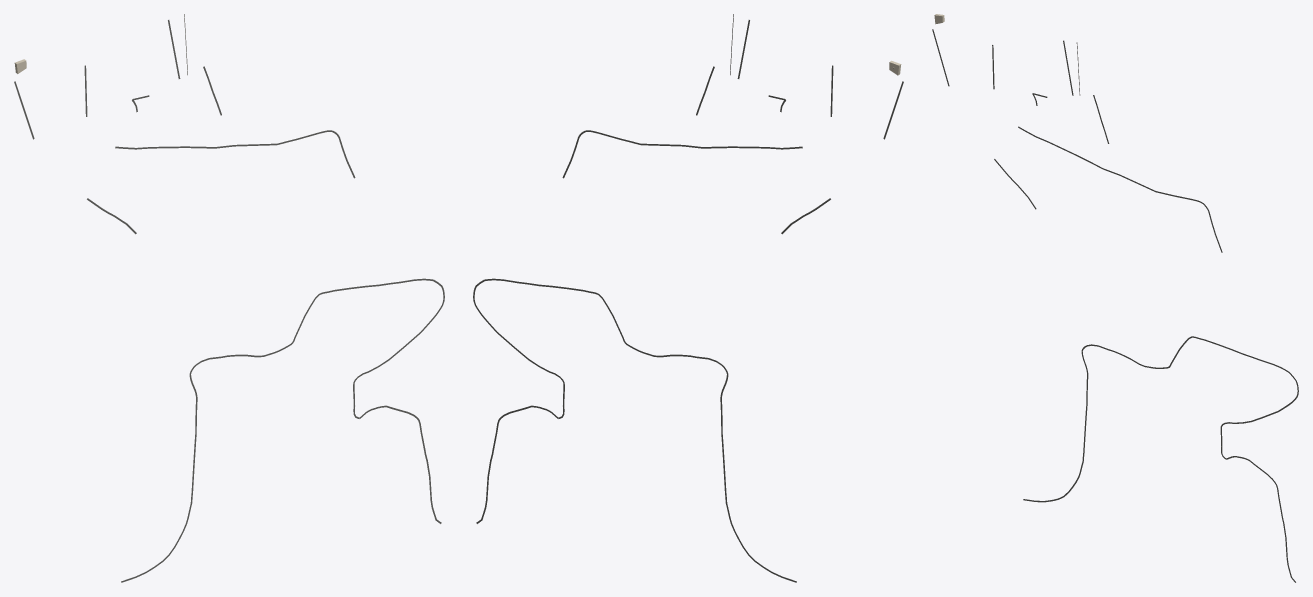
Rendered from salt_3578_3209.glb.
The picture shows the model from 3 angles, left to right: view 1: azimuth 30°, elevation 25°; view 2: azimuth 150°, elevation 25°; view 3: azimuth 330°, elevation 25°; orthographic projection. The views are drawn at different scales.
Parts seen in each view (by area): view 1: Road, Road .001; view 2: Road, Road .001; view 3: Road, Road .001.
Boxes of the visible parts, x1,y1,x2,y2 form: Road: (121, 278, 444, 582); Road .001: (115, 130, 355, 178); Road: (473, 278, 796, 582); Road .001: (562, 130, 802, 178); Road: (1023, 336, 1298, 502); Road .001: (1018, 126, 1222, 252).
Bounding box in the file's own units: 901 × 1144 × 8.7.
